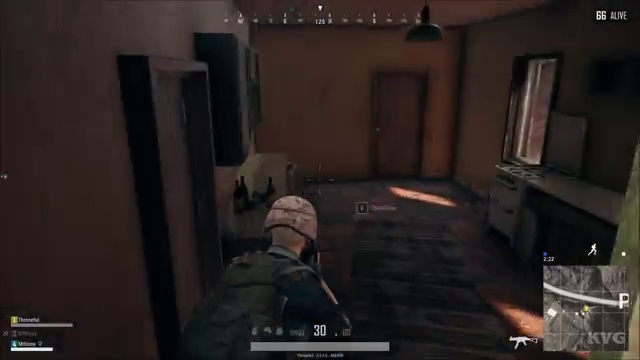Player: (188, 173, 387, 320)
